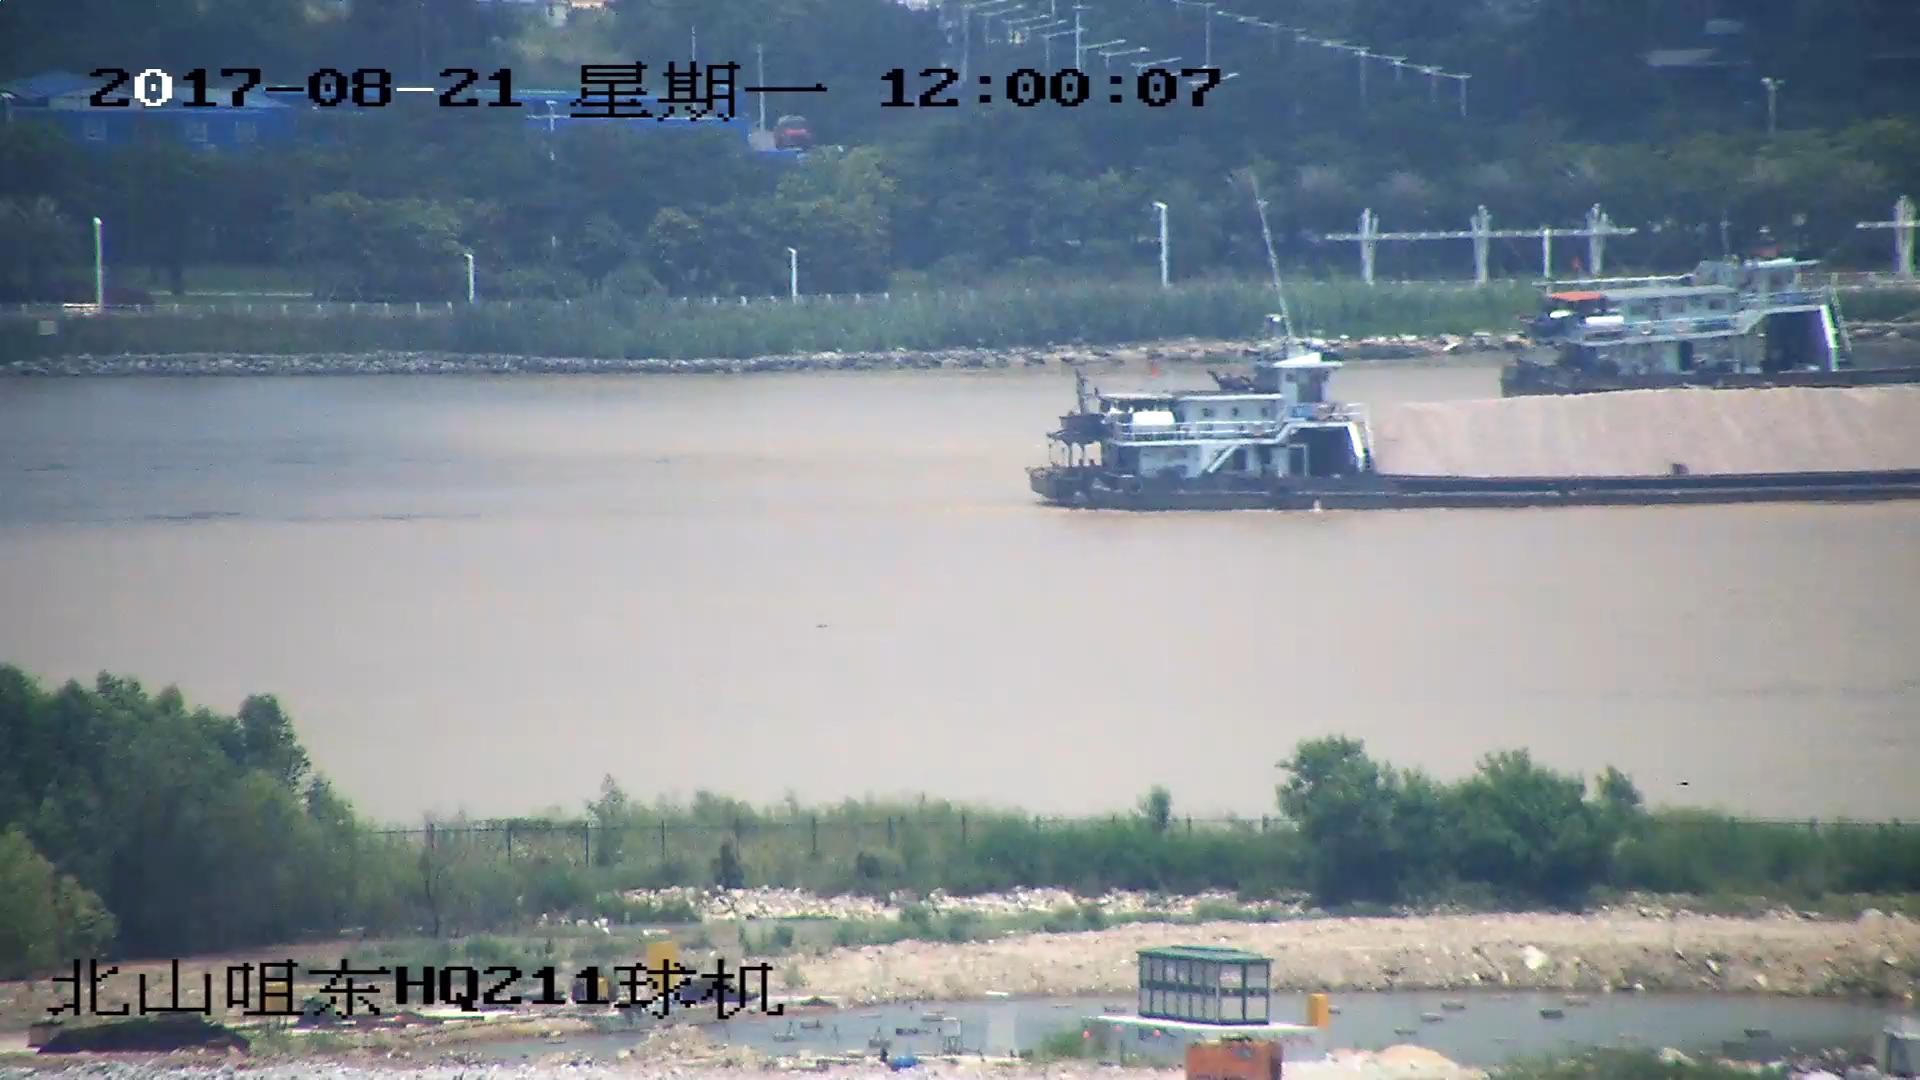bulk cargo carrier: (1508, 267, 1920, 392)
ore carrier: (1029, 364, 1920, 509)
